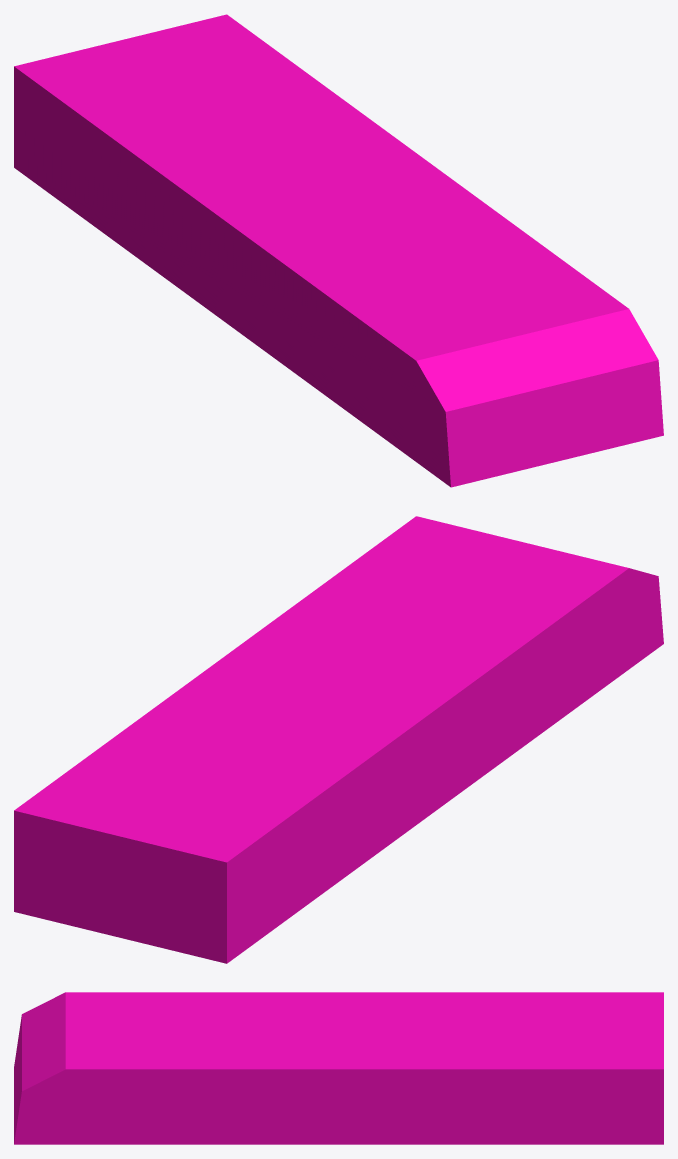
Rendered from study_television_remoteControl_1_meshCollider.fbx.
3 renders of one model, top to bottom at view 1: azimuth 30°, elevation 25°; view 2: azimuth 150°, elevation 25°; view 3: azimuth 270°, elevation 25°, orthographic. The views are drawn at different scales.
Parts seen in each view (by area): view 1: study_television_remoteControl_1_meshCollider; view 2: study_television_remoteControl_1_meshCollider; view 3: study_television_remoteControl_1_meshCollider.
Boxes of the visible parts, x1,y1,x2,y2 form: study_television_remoteControl_1_meshCollider: (14, 14, 663, 487); study_television_remoteControl_1_meshCollider: (14, 516, 663, 963); study_television_remoteControl_1_meshCollider: (14, 992, 663, 1144).
Size of the model in its own units: 6.03 by 2.74 by 21.42.
